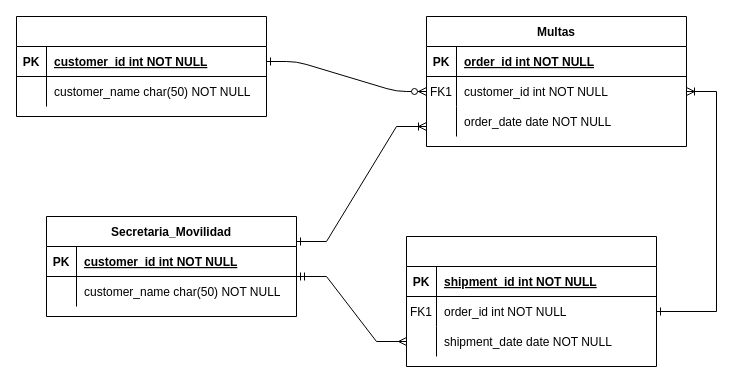
Some shapes in this 733 by 383 pixel diagram are drawn without their labels. Here are the shapes that lost their labels. From the top down, the box of each, then its label:
(16, 16, 266, 116): Conductores
(406, 236, 656, 366): Tombos
